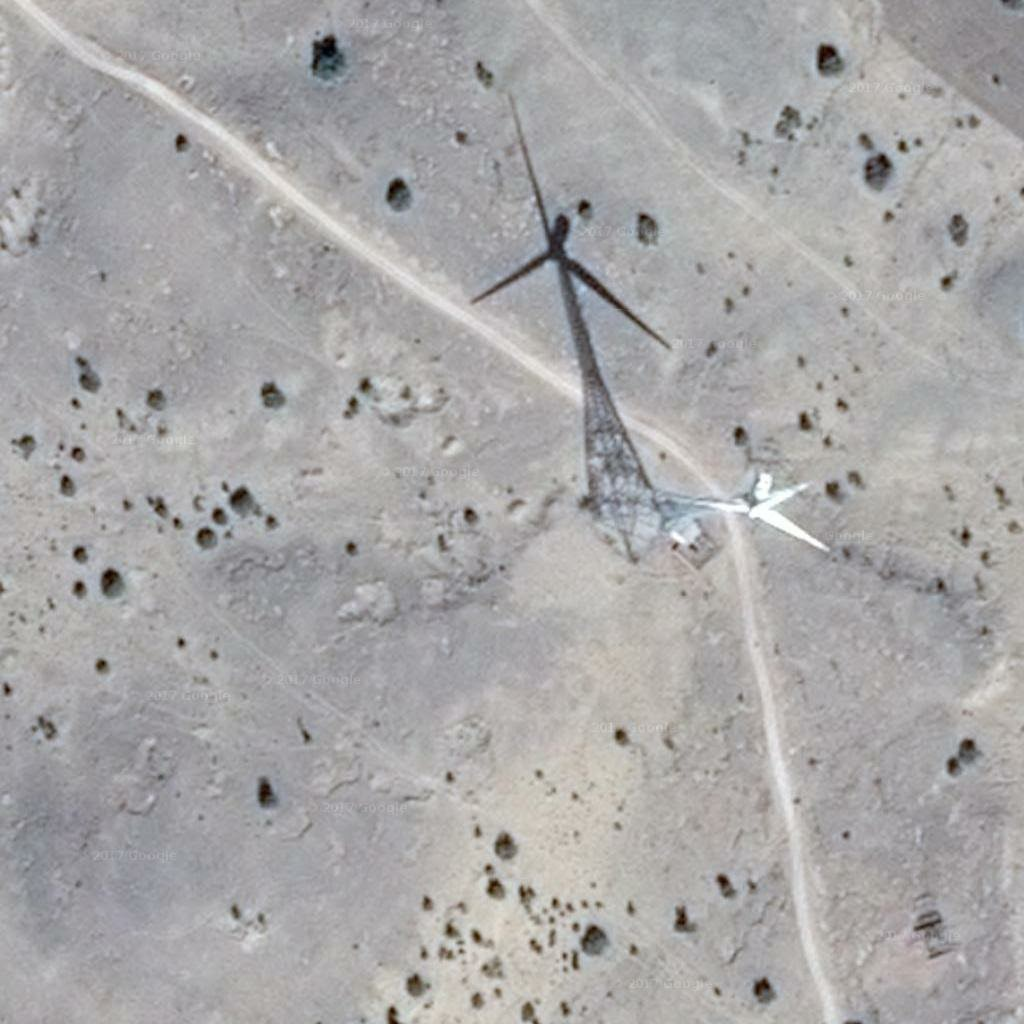Windmill: (473, 99, 677, 526)
